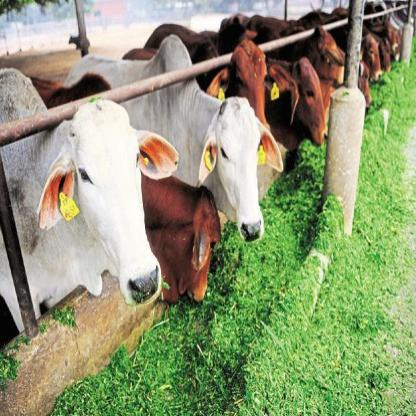cow: (63, 34, 283, 242), (0, 68, 180, 308), (144, 24, 330, 155), (121, 38, 292, 131), (198, 30, 345, 88), (139, 171, 222, 272), (297, 10, 382, 82), (142, 225, 212, 308), (336, 44, 374, 106), (369, 32, 392, 74)
